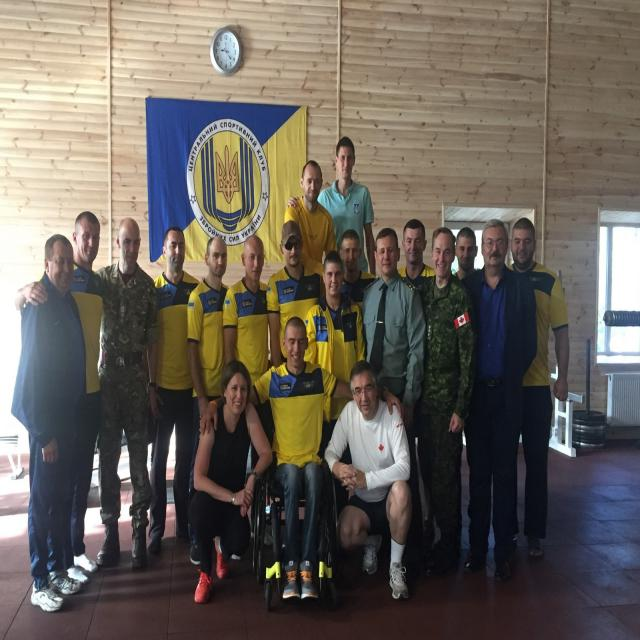body: (200, 315, 403, 609), (15, 209, 106, 584), (10, 231, 86, 615), (458, 218, 538, 582), (92, 216, 158, 569), (183, 356, 273, 606), (322, 360, 413, 602), (506, 216, 570, 558), (411, 225, 475, 566), (361, 226, 426, 555), (144, 222, 204, 565), (288, 134, 377, 271), (303, 251, 366, 438), (187, 235, 231, 498), (452, 224, 486, 564), (67, 532, 206, 602), (266, 220, 324, 368), (222, 234, 269, 387), (282, 157, 340, 277), (338, 226, 378, 293), (397, 217, 436, 280)
